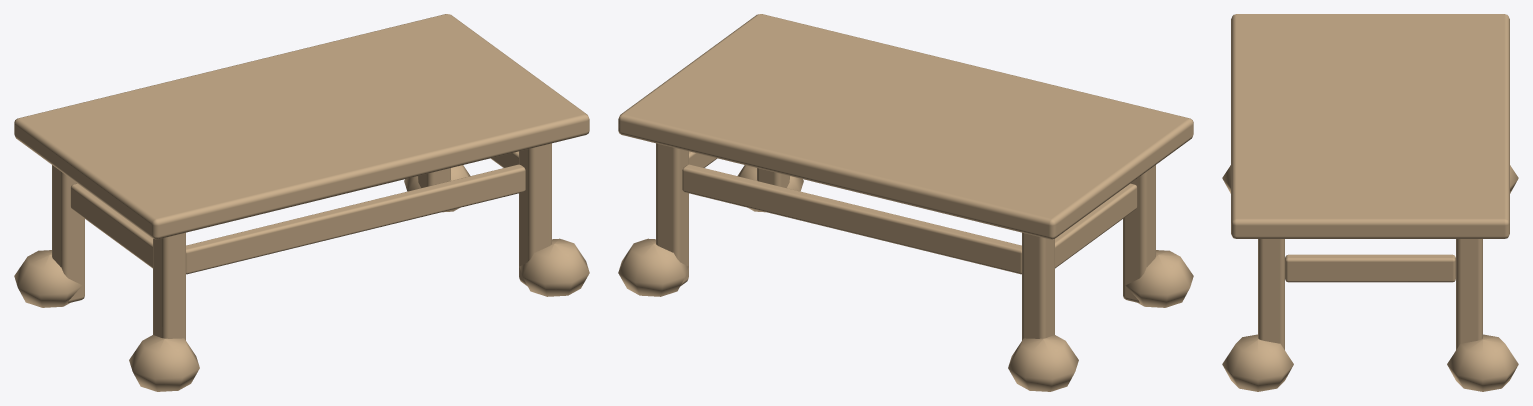
Rendered from low-tea-table.glb.
The picture shows the model from 3 angles, left to right: view 1: azimuth 30°, elevation 25°; view 2: azimuth 150°, elevation 25°; view 3: azimuth 270°, elevation 25°; orthographic projection. The views are drawn at different scales.
Parts seen in each view (by area): view 1: low-tea-table; view 2: low-tea-table; view 3: low-tea-table.
Part boxes in pixels (left/top/right/bottom): low-tea-table: left=14, top=14, right=589, bottom=391; low-tea-table: left=618, top=14, right=1193, bottom=391; low-tea-table: left=1222, top=14, right=1518, bottom=391.
Size of the model in its own units: 1.14 by 0.42 by 0.66.
